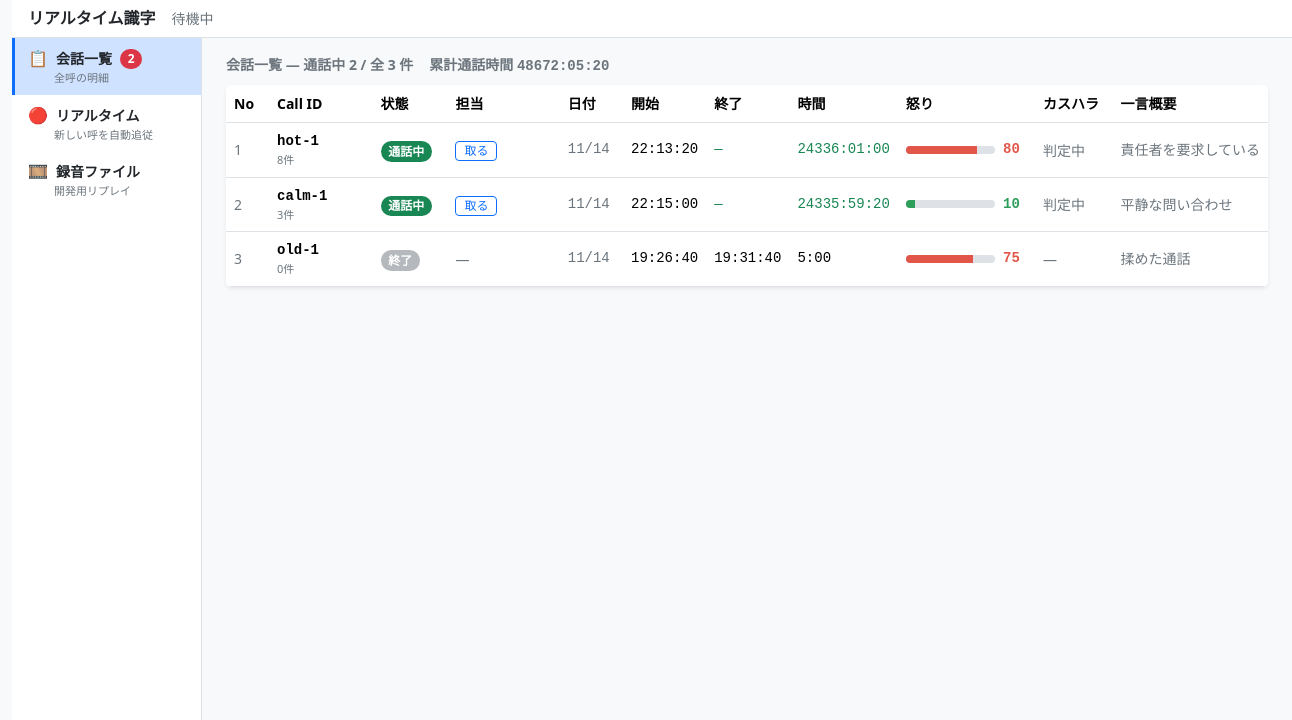
Scenario: 監視卓 › 行クリックで詳細へ、「← 監視卓へ」で戻る
Click the button with test id "call-old-1" at (747, 259), box [226, 232, 1268, 286]
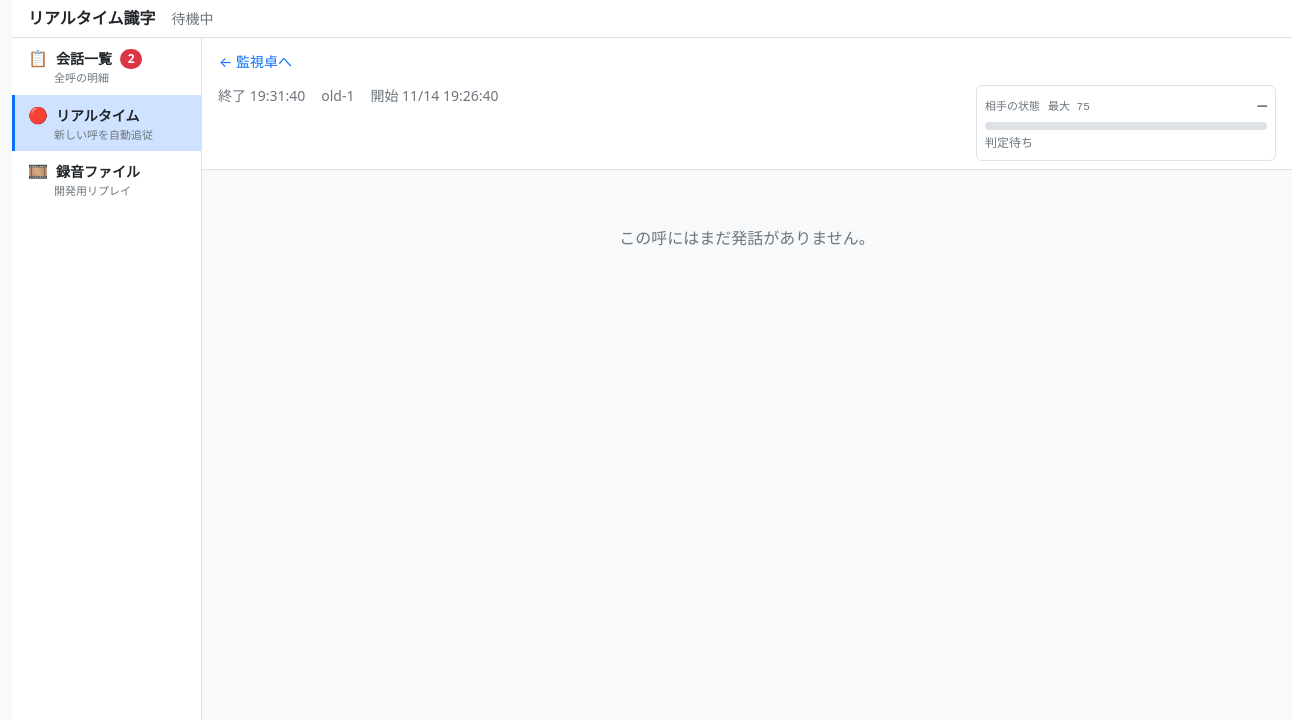
Result: the button "← 監視卓へ" is shown
Click the button "← 監視卓へ" at (256, 62), box [218, 46, 293, 77]
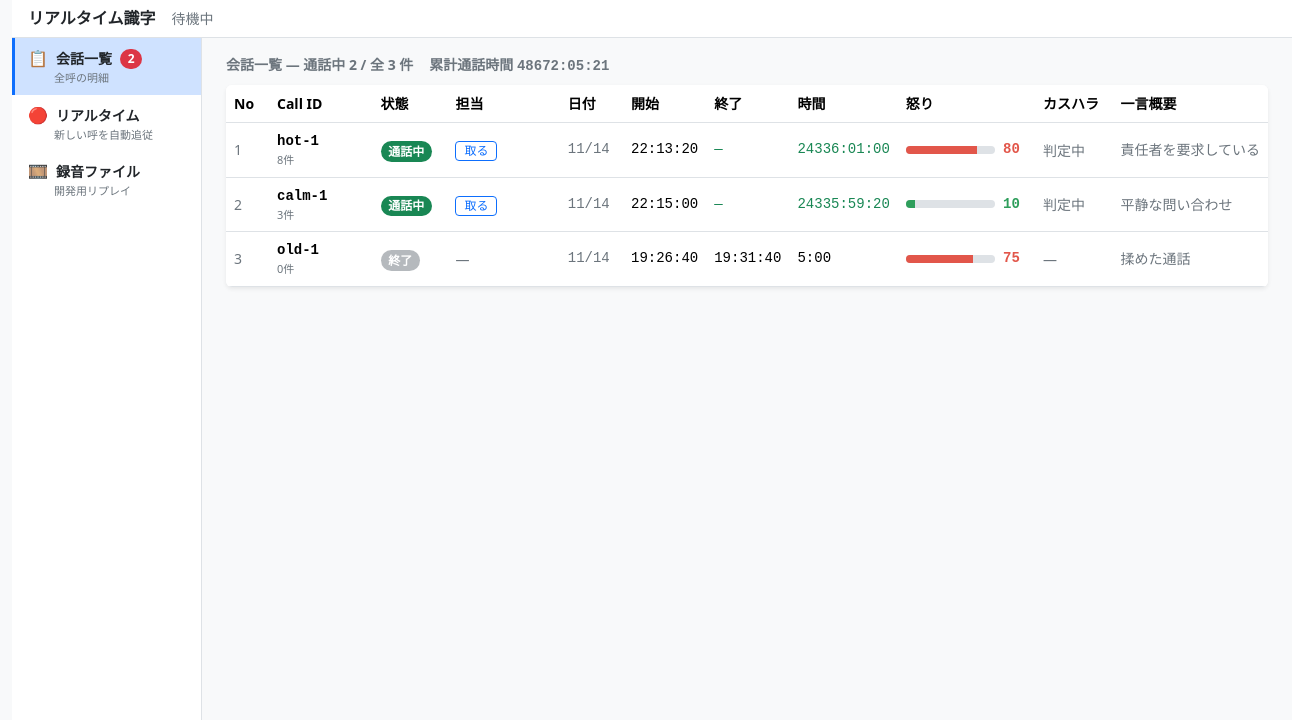
Result: the button with test id "call-hot-1" is shown at [226, 122, 1268, 177]
